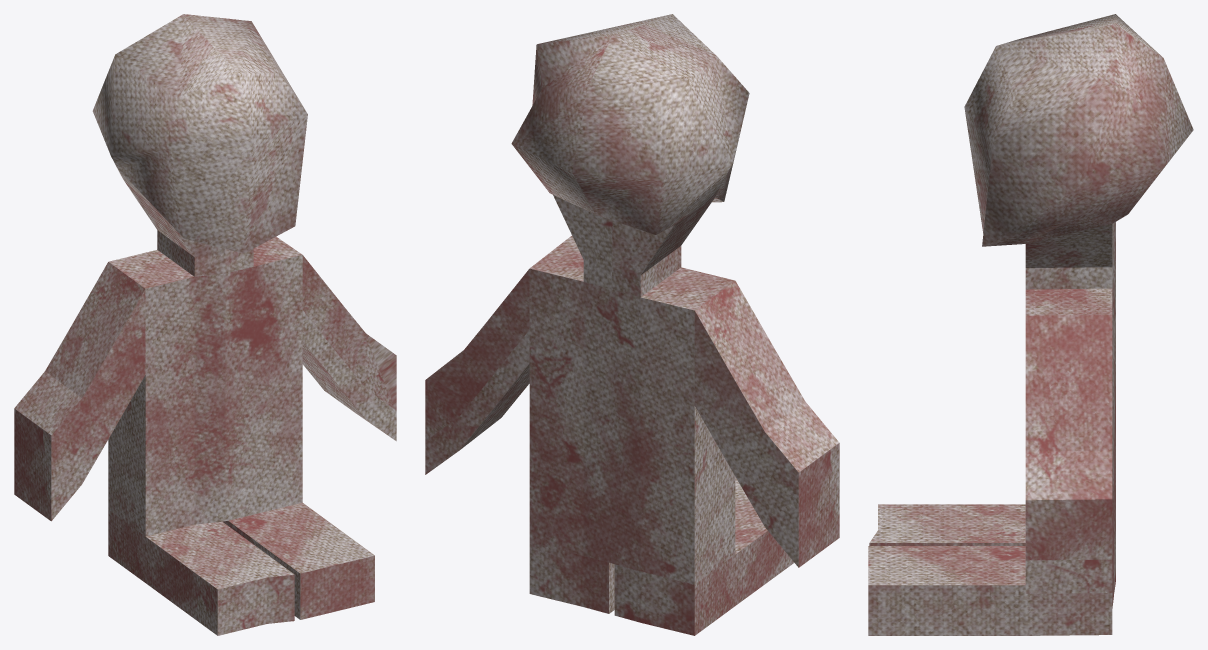
The model's file is muñecoFinal.fbx.
The picture shows the model from 3 angles, left to right: view 1: azimuth 30°, elevation 25°; view 2: azimuth 150°, elevation 25°; view 3: azimuth 270°, elevation 25°; orthographic projection. The views are drawn at different scales.
Parts seen in each view (by area): view 1: lp_muñeco; view 2: lp_muñeco; view 3: lp_muñeco.
Boxes of the visible parts, box(x1,y1,x2,y2) form: lp_muñeco: box(14, 14, 396, 635); lp_muñeco: box(425, 14, 839, 635); lp_muñeco: box(868, 14, 1193, 635).
Size of the model in its own units: 0.6775 by 0.9941 by 0.5141.
Materials: 1 (1 with a texture image).
